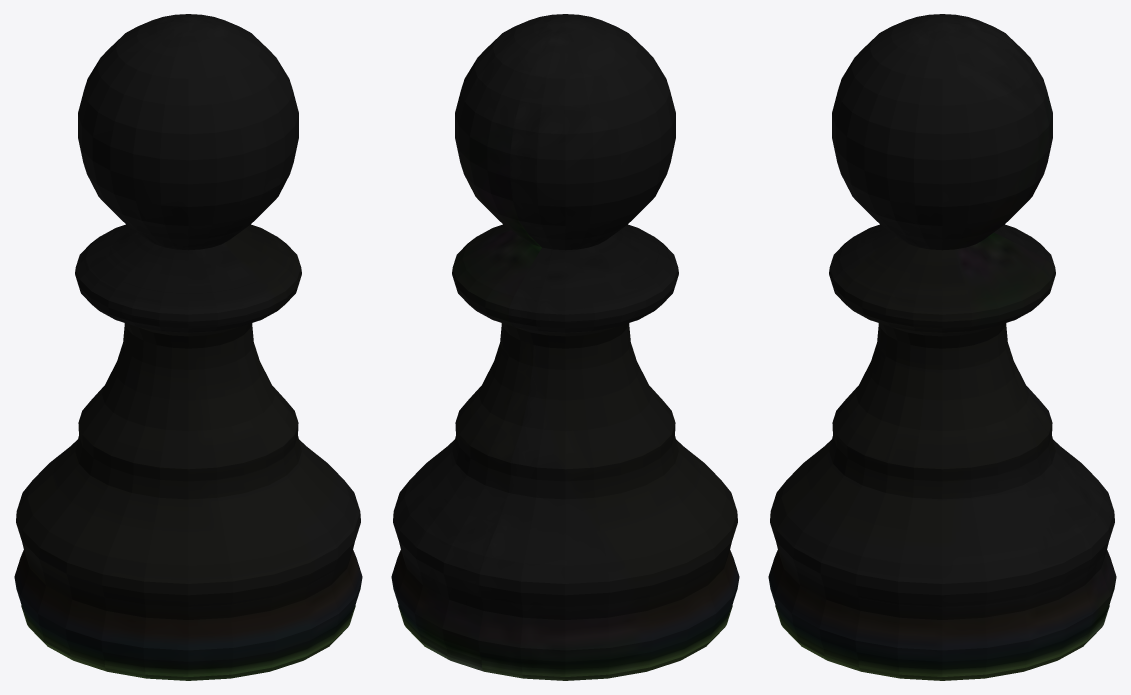
The model's file is pawn.glb.
The picture shows the model from 3 angles, left to right: view 1: azimuth 30°, elevation 25°; view 2: azimuth 150°, elevation 25°; view 3: azimuth 270°, elevation 25°; orthographic projection.
Parts seen in each view (by area): view 1: pawn_a.obj; view 2: pawn_a.obj; view 3: pawn_a.obj.
Boxes of the visible parts, x1,y1,x2,y2 form: pawn_a.obj: (14,14,362,680); pawn_a.obj: (391,14,739,680); pawn_a.obj: (768,14,1116,680).
Bounding box in the file's own units: 0.5351 × 1 × 0.5351.
1 material, 1 textured.
